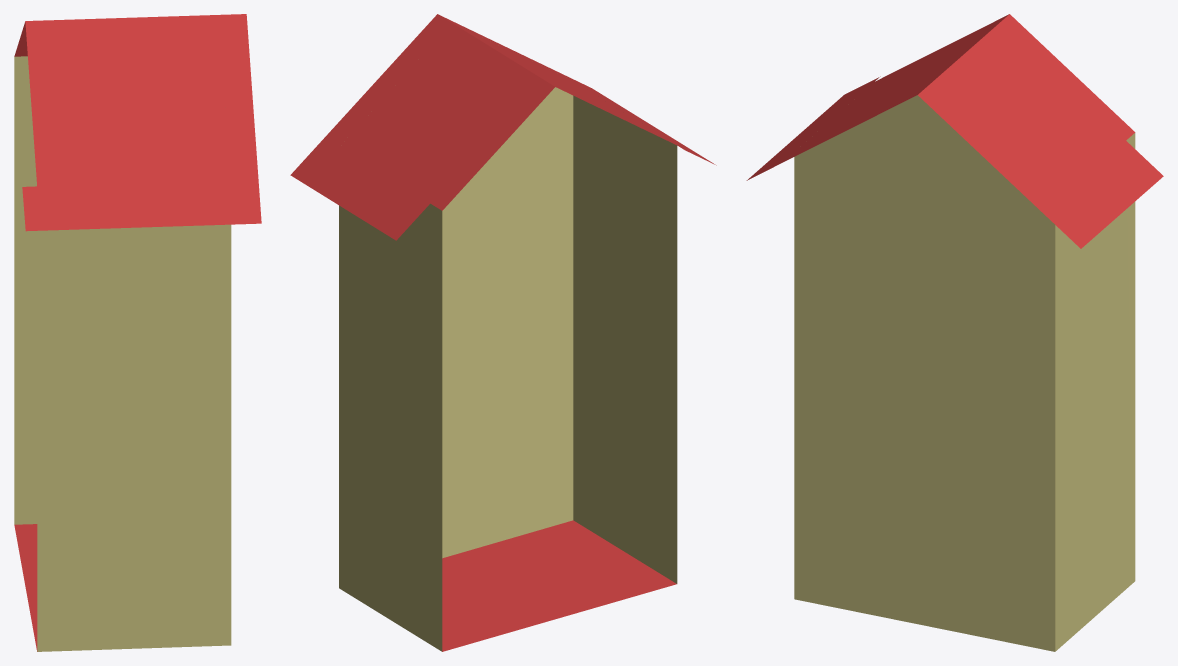
3 views of the same model, side by side, from view 1: azimuth 30°, elevation 25°; view 2: azimuth 150°, elevation 25°; view 3: azimuth 270°, elevation 25° (orthographic). The views are drawn at different scales.
Size of the model in its own units: 8.44 by 9.65 by 13.81.
